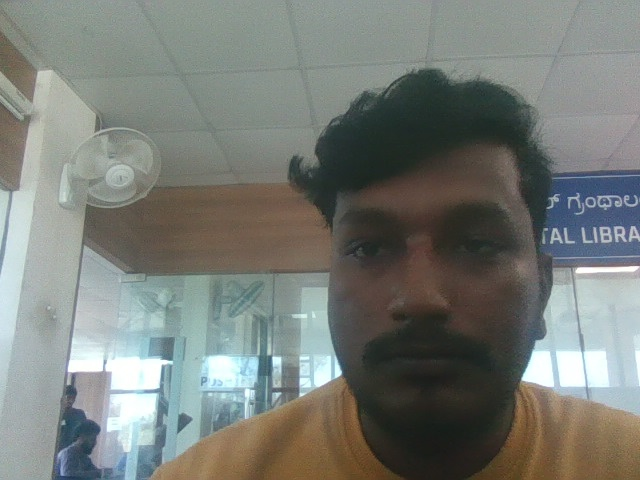real: (290, 48, 579, 457)
